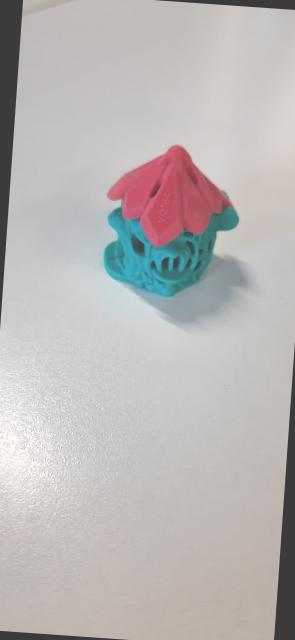House: (86, 120, 260, 351)
